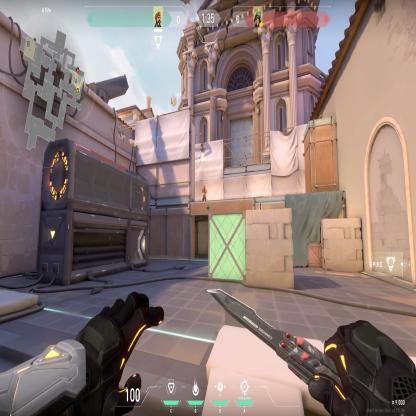enemy: (202, 184, 206, 201)
